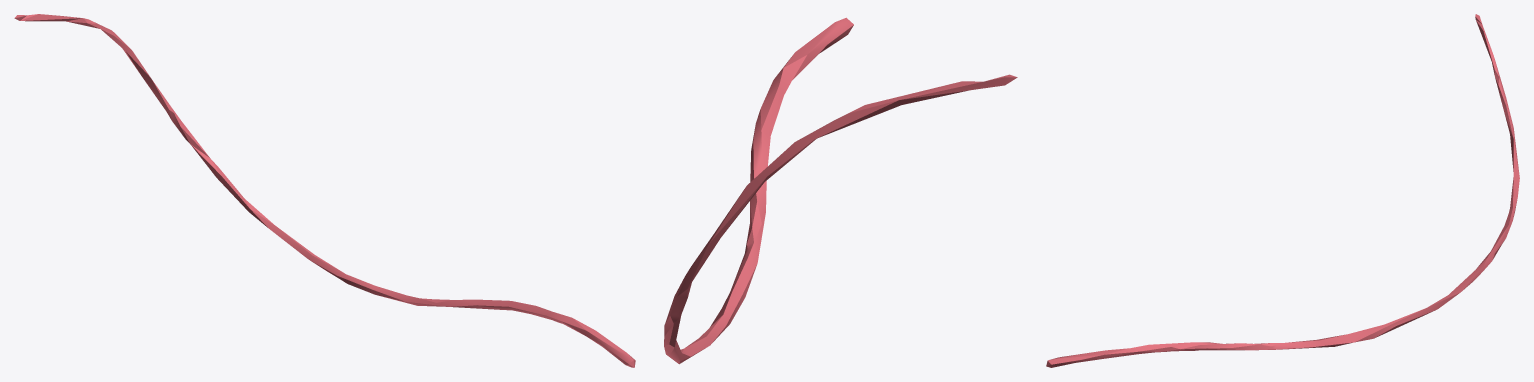
File: fma50519_fj5224.glb
3 renders of one model, left to right at view 1: azimuth 30°, elevation 25°; view 2: azimuth 150°, elevation 25°; view 3: azimuth 270°, elevation 25°, orthographic. The views are drawn at different scales.
Parts seen in each view (by area): view 1: FMA50519_FJ5224; view 2: FMA50519_FJ5224; view 3: FMA50519_FJ5224.
Part boxes in pixels (x1,y1,x2,y2): FMA50519_FJ5224: (14,14,635,367); FMA50519_FJ5224: (664,17,1017,364); FMA50519_FJ5224: (1046,14,1519,367).
Size of the model in its own units: 0.0185 by 0.0132 by 0.025.
